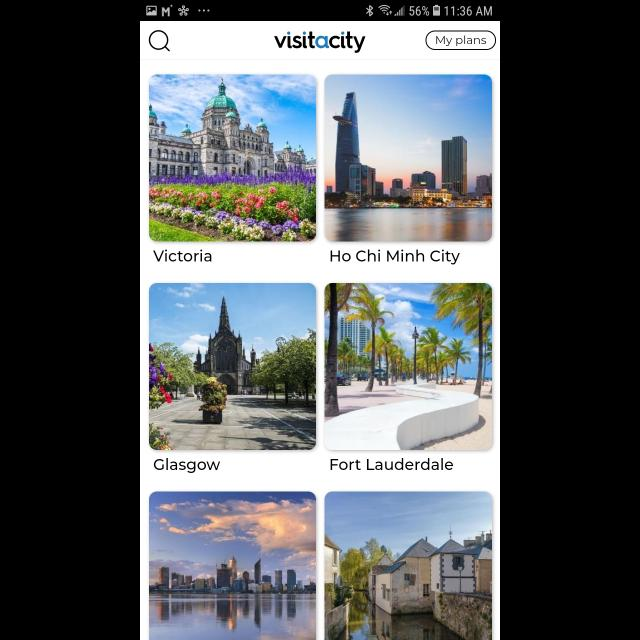icon: (149, 30, 171, 52)
image: (324, 284, 492, 451), (324, 75, 492, 242), (150, 284, 316, 451), (150, 75, 316, 242), (149, 491, 316, 640), (324, 492, 492, 640), (274, 31, 366, 53)
text: (331, 249, 461, 265), (331, 458, 454, 470), (154, 458, 220, 474), (154, 250, 212, 262)
textbutton: (426, 31, 496, 51)
uppertaskbar: (140, 1, 500, 22)
